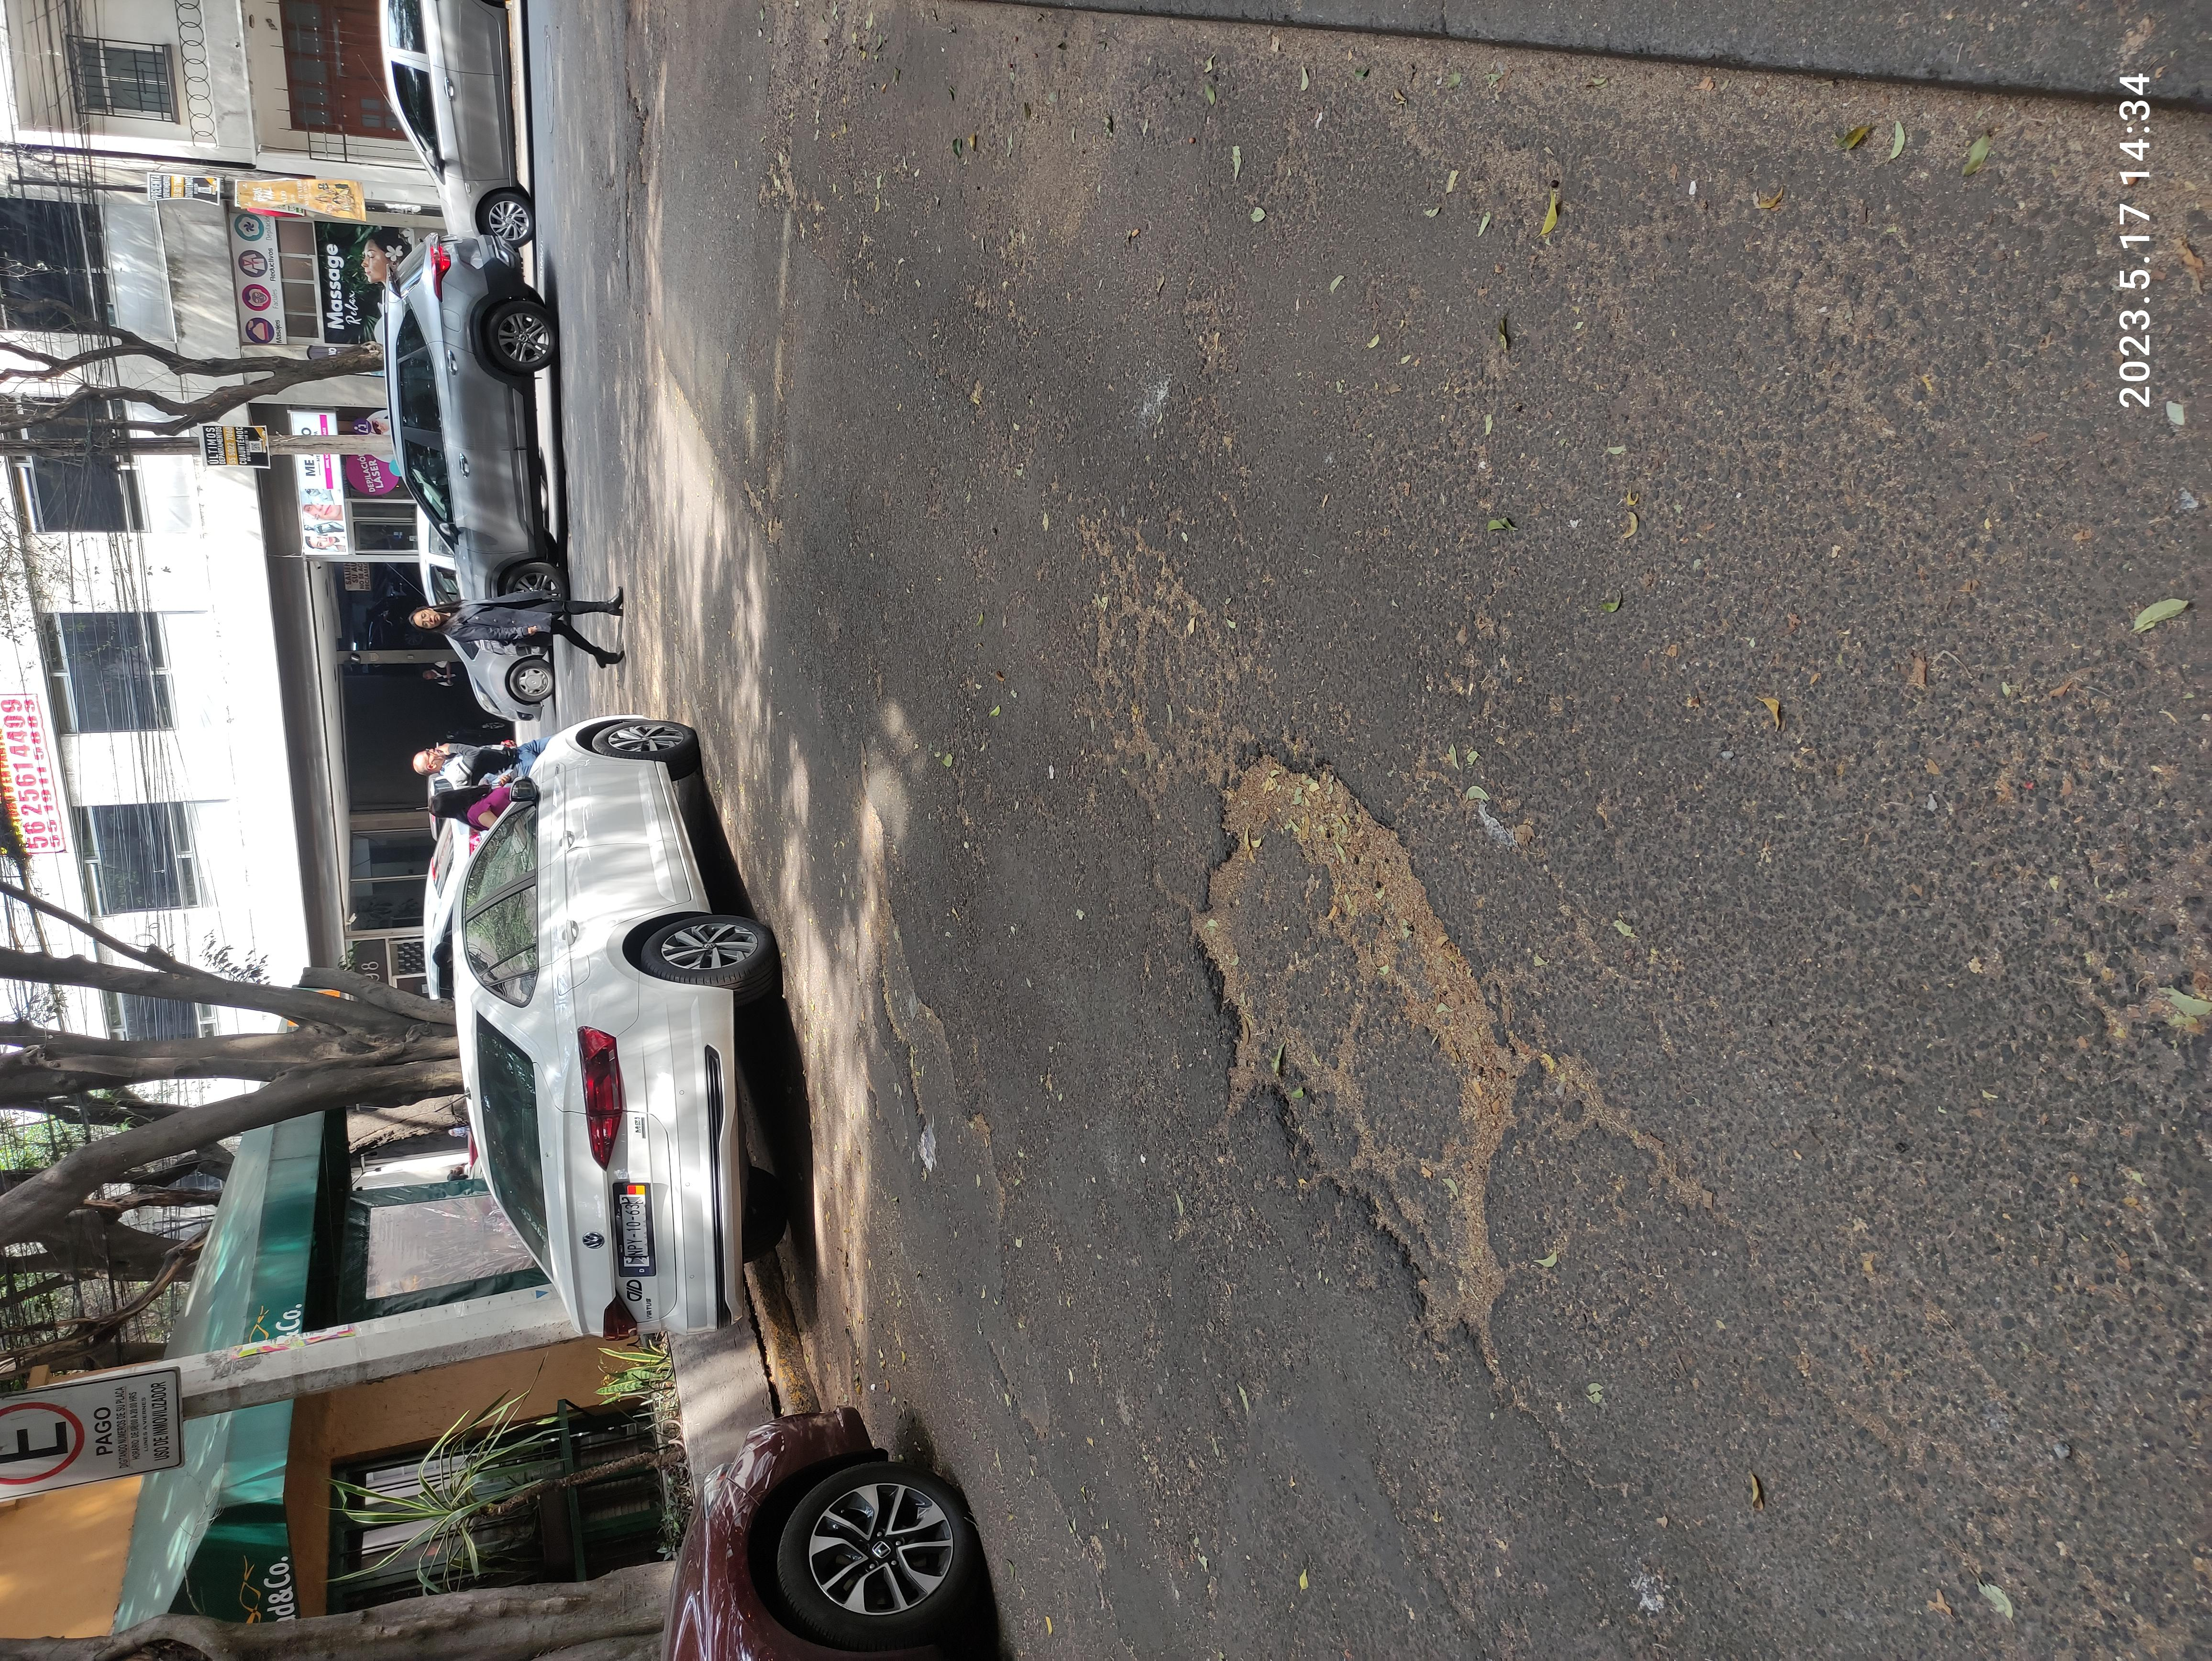alligator-crack: (1139, 808, 1551, 914)
pothole: (384, 869, 1244, 1155), (433, 640, 1143, 761), (1933, 462, 2212, 494), (1922, 567, 2025, 609), (1816, 468, 2018, 478), (1472, 572, 1528, 593), (1153, 642, 1246, 654), (1521, 557, 1575, 576), (1542, 574, 1591, 586)
